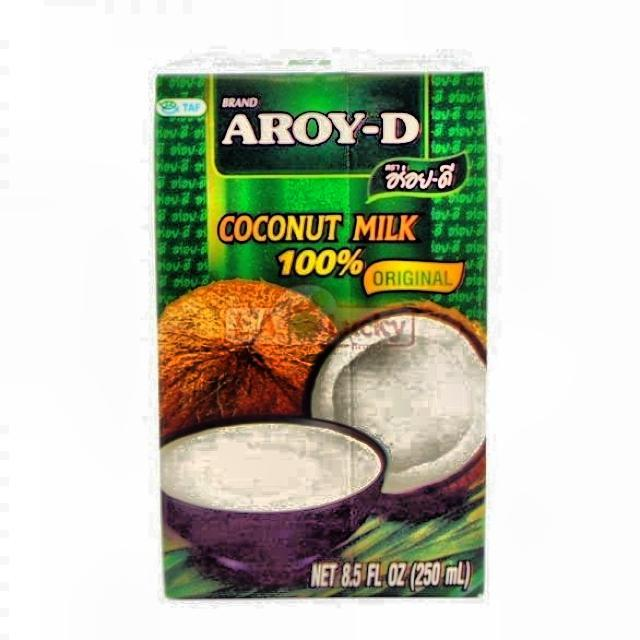cardboard: (154, 70, 488, 598)
